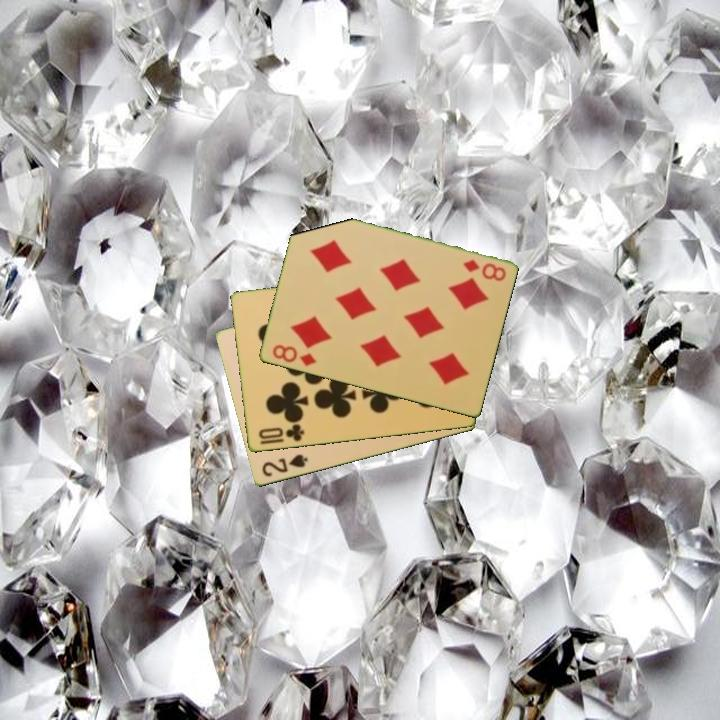10c: (255, 421, 307, 445)
2s: (258, 451, 311, 480)
8d: (269, 341, 319, 370), (459, 256, 509, 284)
